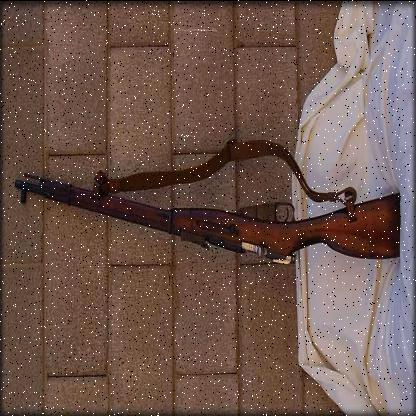rifle: (9, 129, 405, 278)
